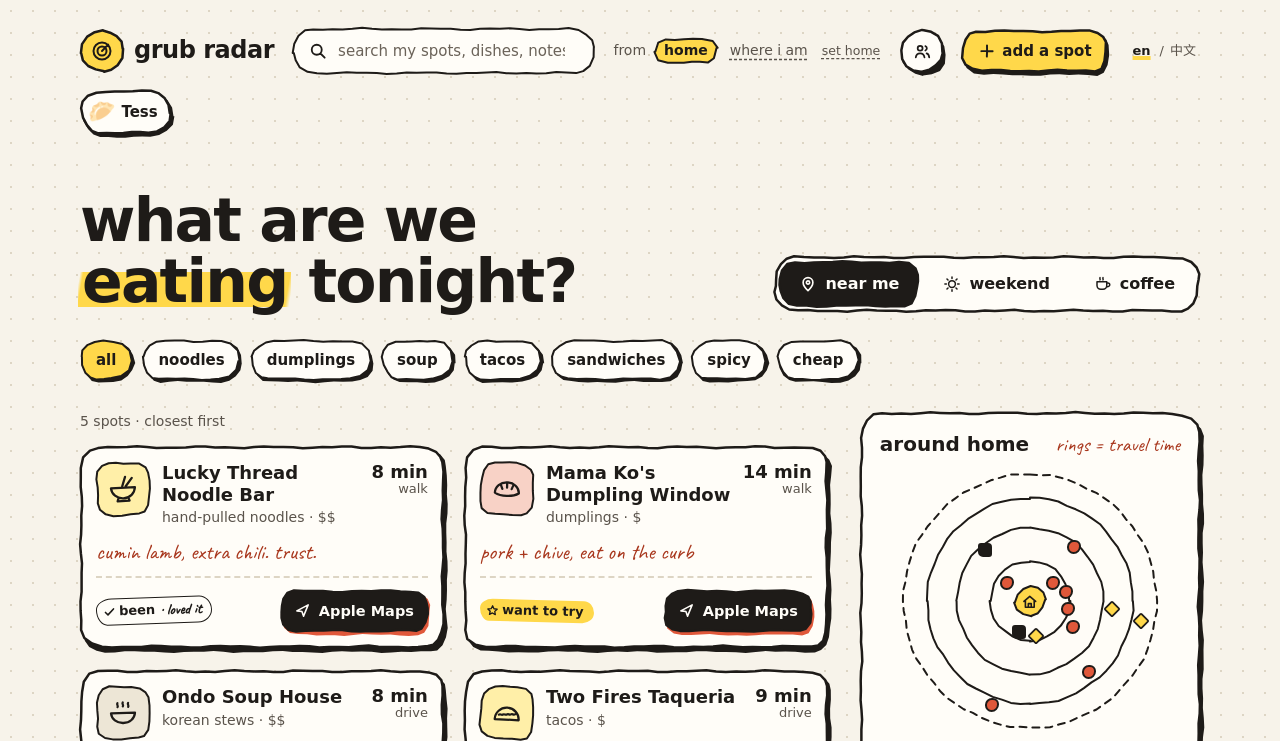
it: home: races and failures › says so when the account could not be reached, and keeps the home for this visit
Click the button "set home": (851, 51) [820,39,882,63]
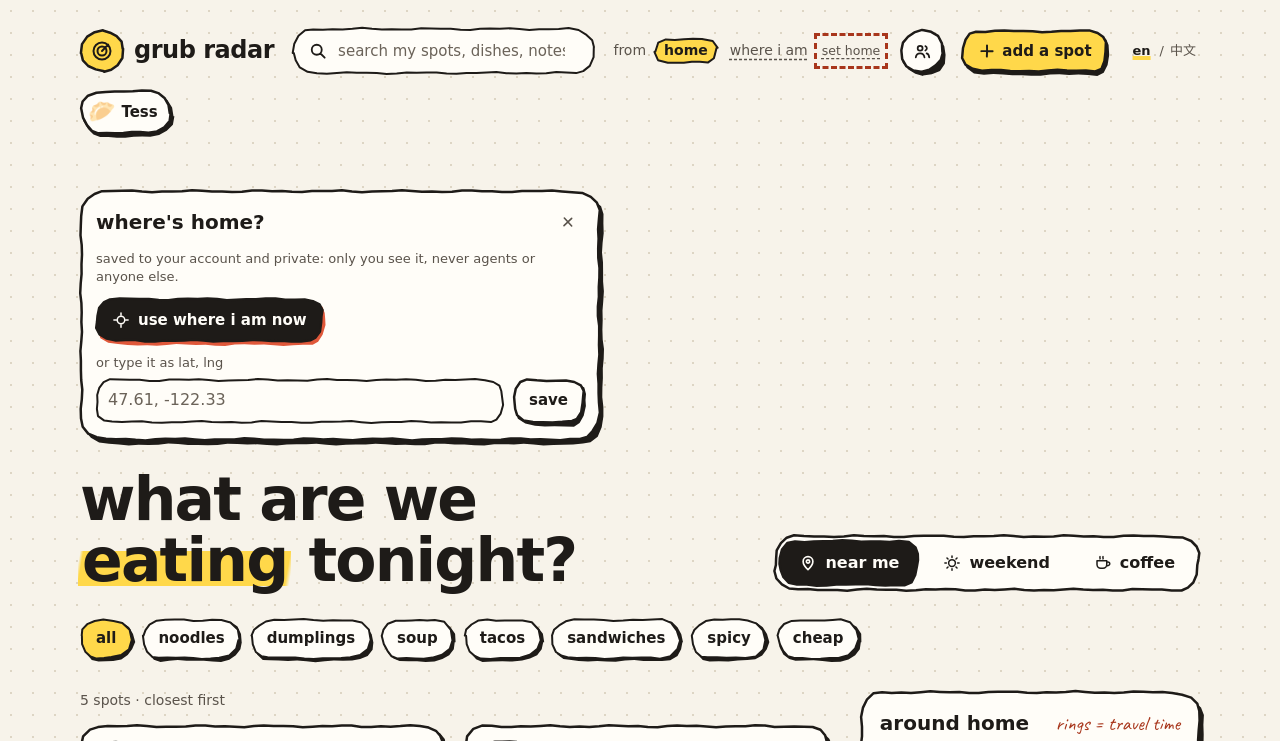
In the field labelled "or type it as lat, lng": (300, 401) [96,379,503,423], type "47.6159, -122.3106"
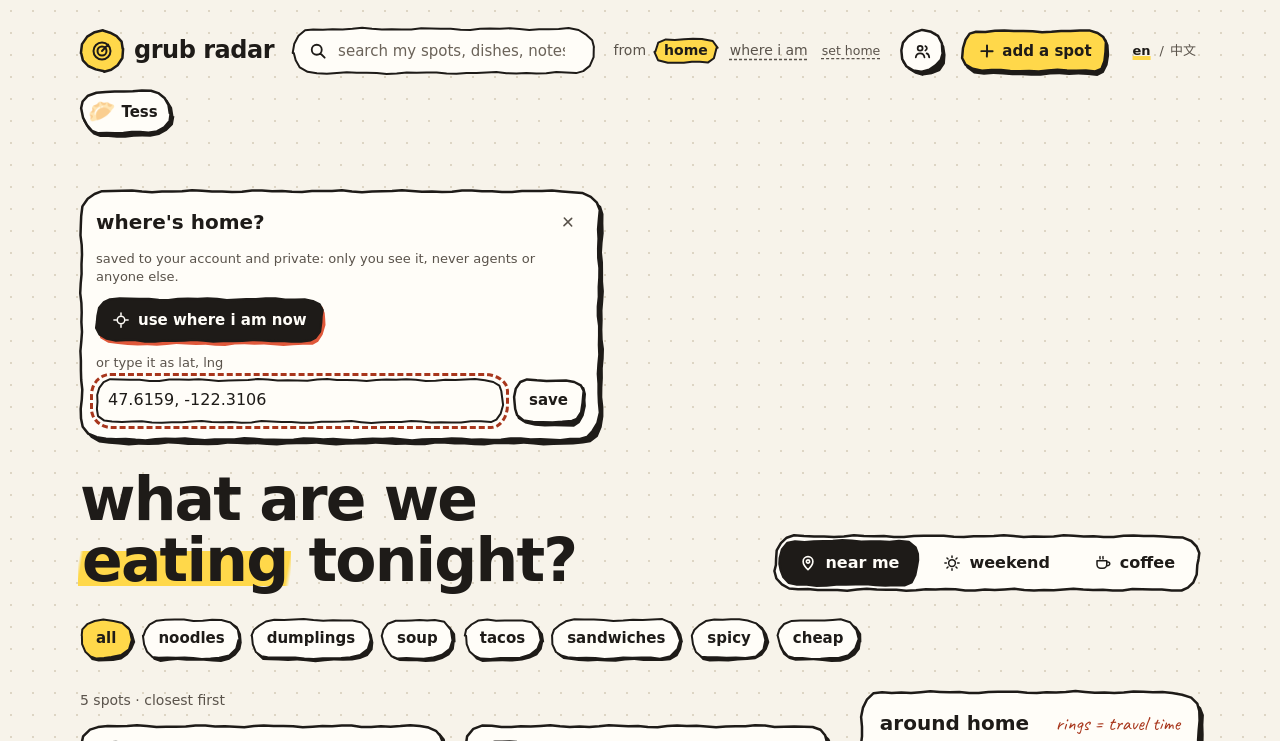
Click the button "save": (548, 401) [513,379,584,423]
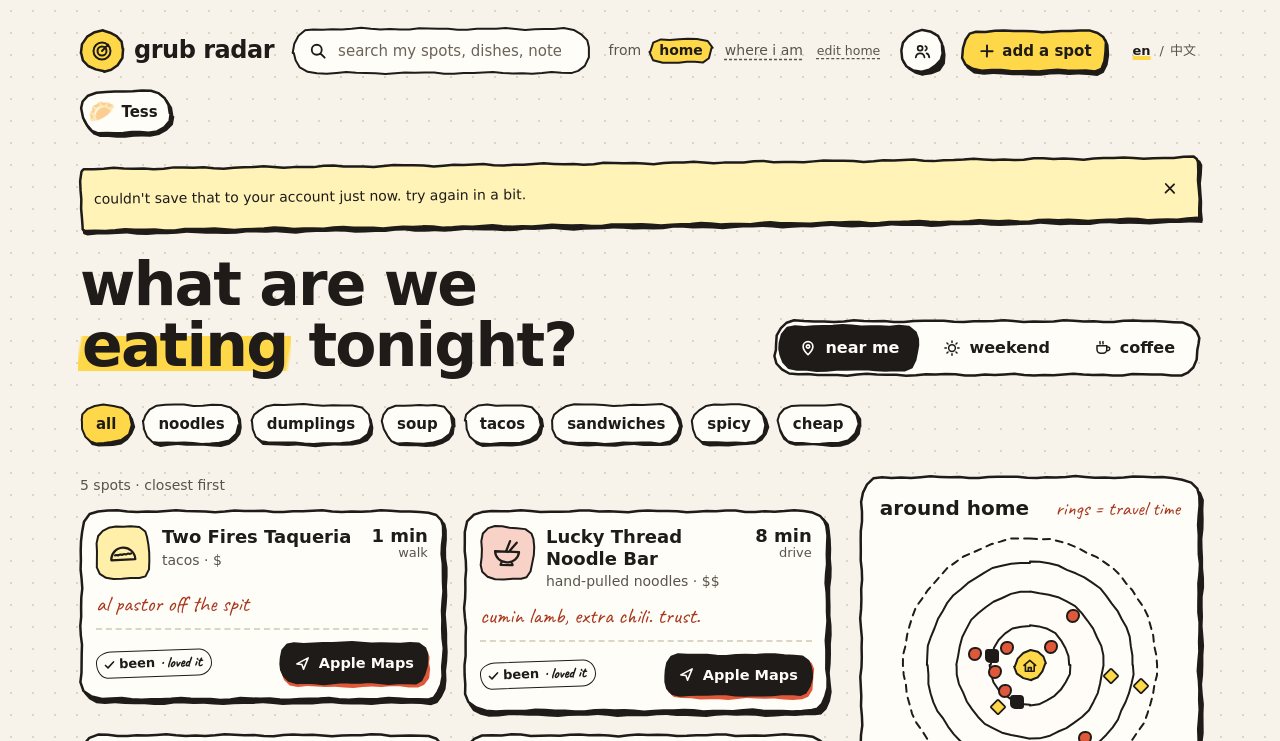
Expected: the element that starts with "Two Fires Taqueria" is shown, [162,526,351,547]
Now the message shows "couldn't save that", box [94,186,526,207]
